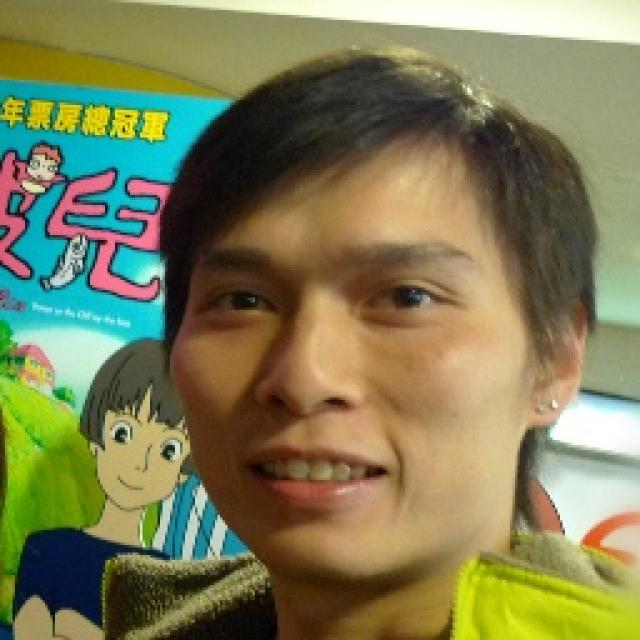earlobe: (526, 390, 566, 434)
eye: (364, 282, 444, 316), (209, 282, 274, 320)
nose: (255, 399, 350, 439)
wholeear: (525, 291, 583, 433)
